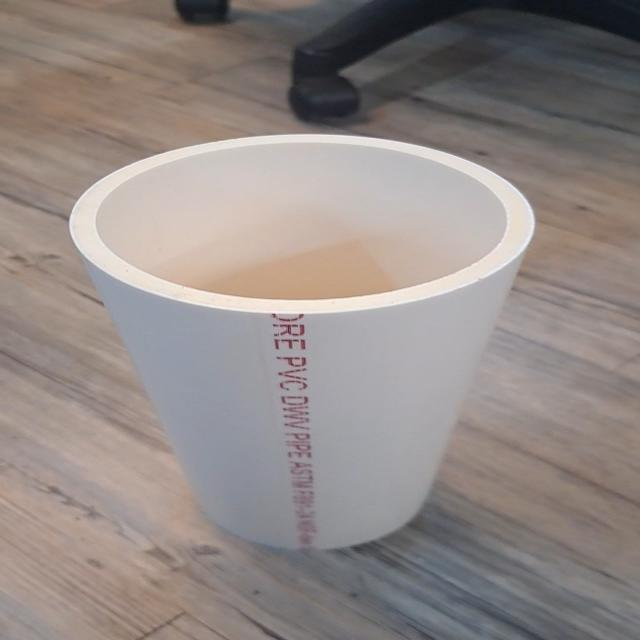CORAL: (63, 122, 535, 554)
